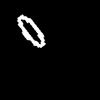chain: (18, 15, 44, 46)
